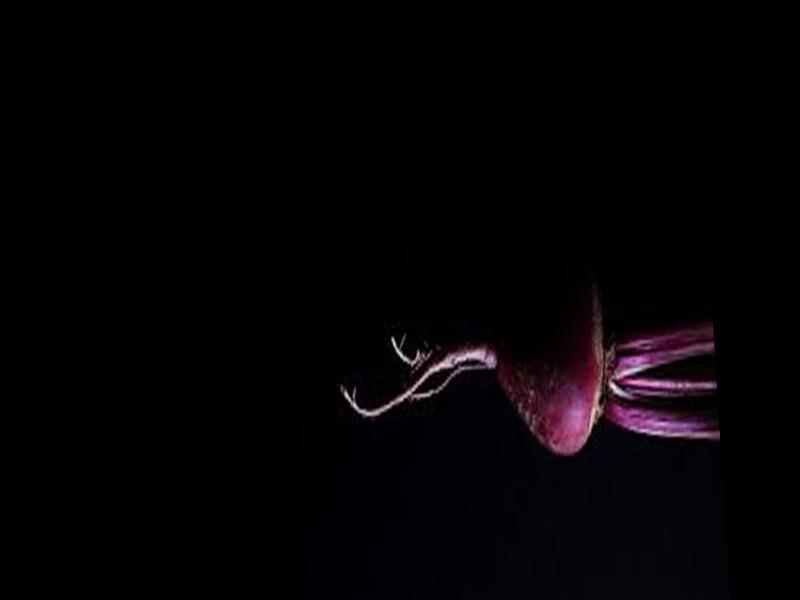Beet: (333, 253, 719, 480)
